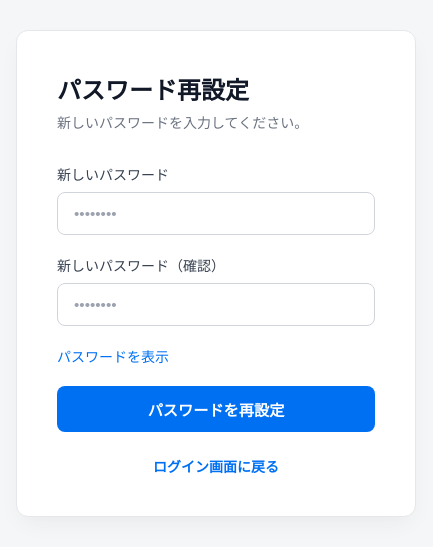
Test: ResetPasswordForm 表示・入力検証 › パスワードを確認用パスワードと同じ値に修正した場合、不一致エラーが消えること
In the password field labelled "新しいパスワード": (216,213) left=57, top=192, right=375, bottom=234, type "password123"
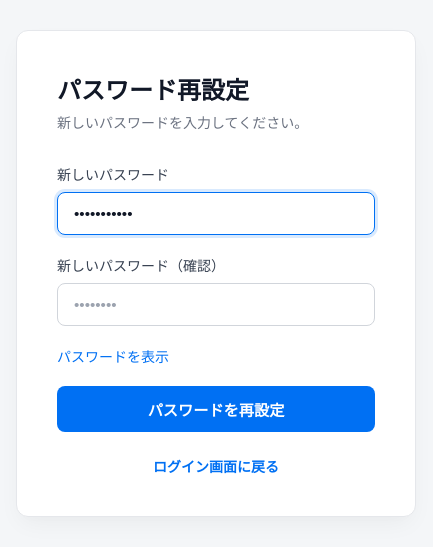
In the password field labelled "新しいパスワード（確認）": (216,304) left=57, top=282, right=375, bottom=326, type "different123"
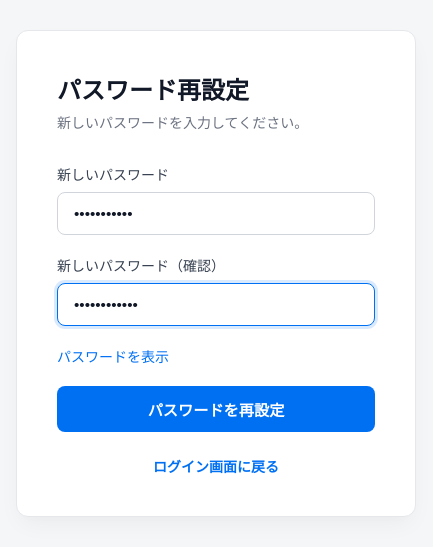
Click the button "パスワードを再設定": (216,408) left=57, top=386, right=375, bottom=432
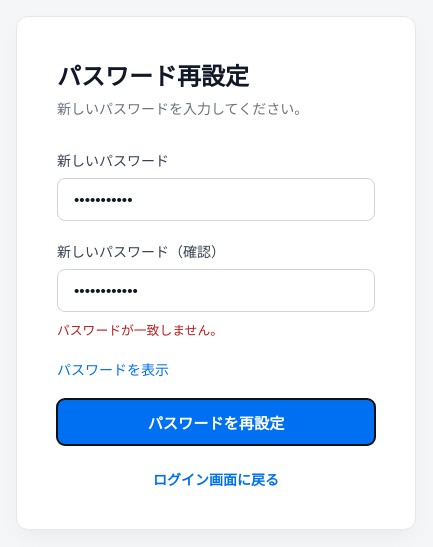
Expected: the text "パスワードが一致しません。" is shown, left=57, top=323, right=223, bottom=338
In the password field labelled "新しいパスワード": (216,200) left=57, top=178, right=375, bottom=221, type "different123"
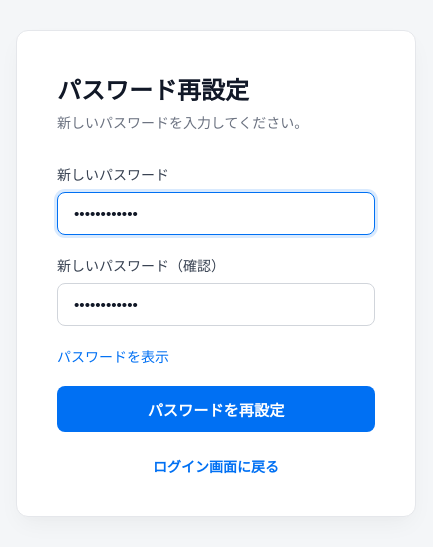
Expected: the text "パスワードが一致しません。" is gone
